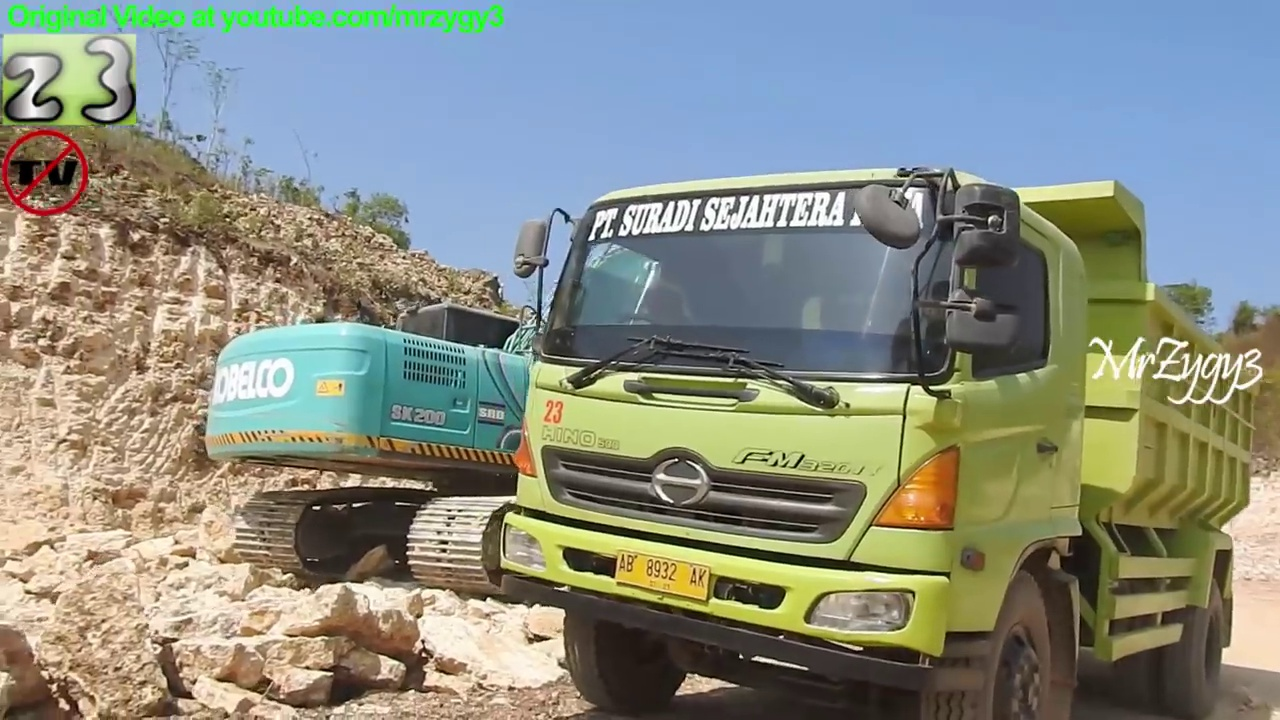excavator: (195, 203, 968, 613)
truck: (489, 159, 1267, 720)
